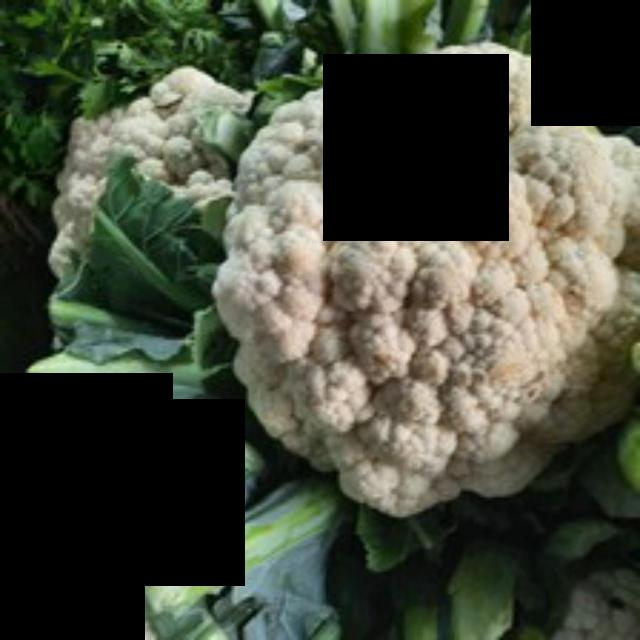cauliflower: (186, 46, 636, 526)
